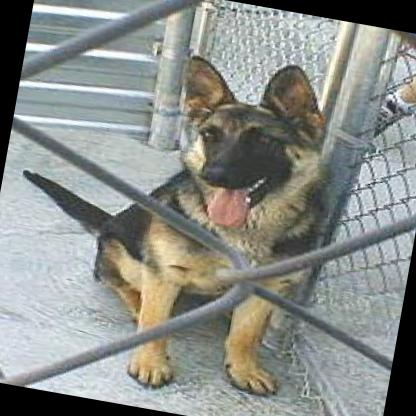German_shepherd: (0, 17, 353, 411)
